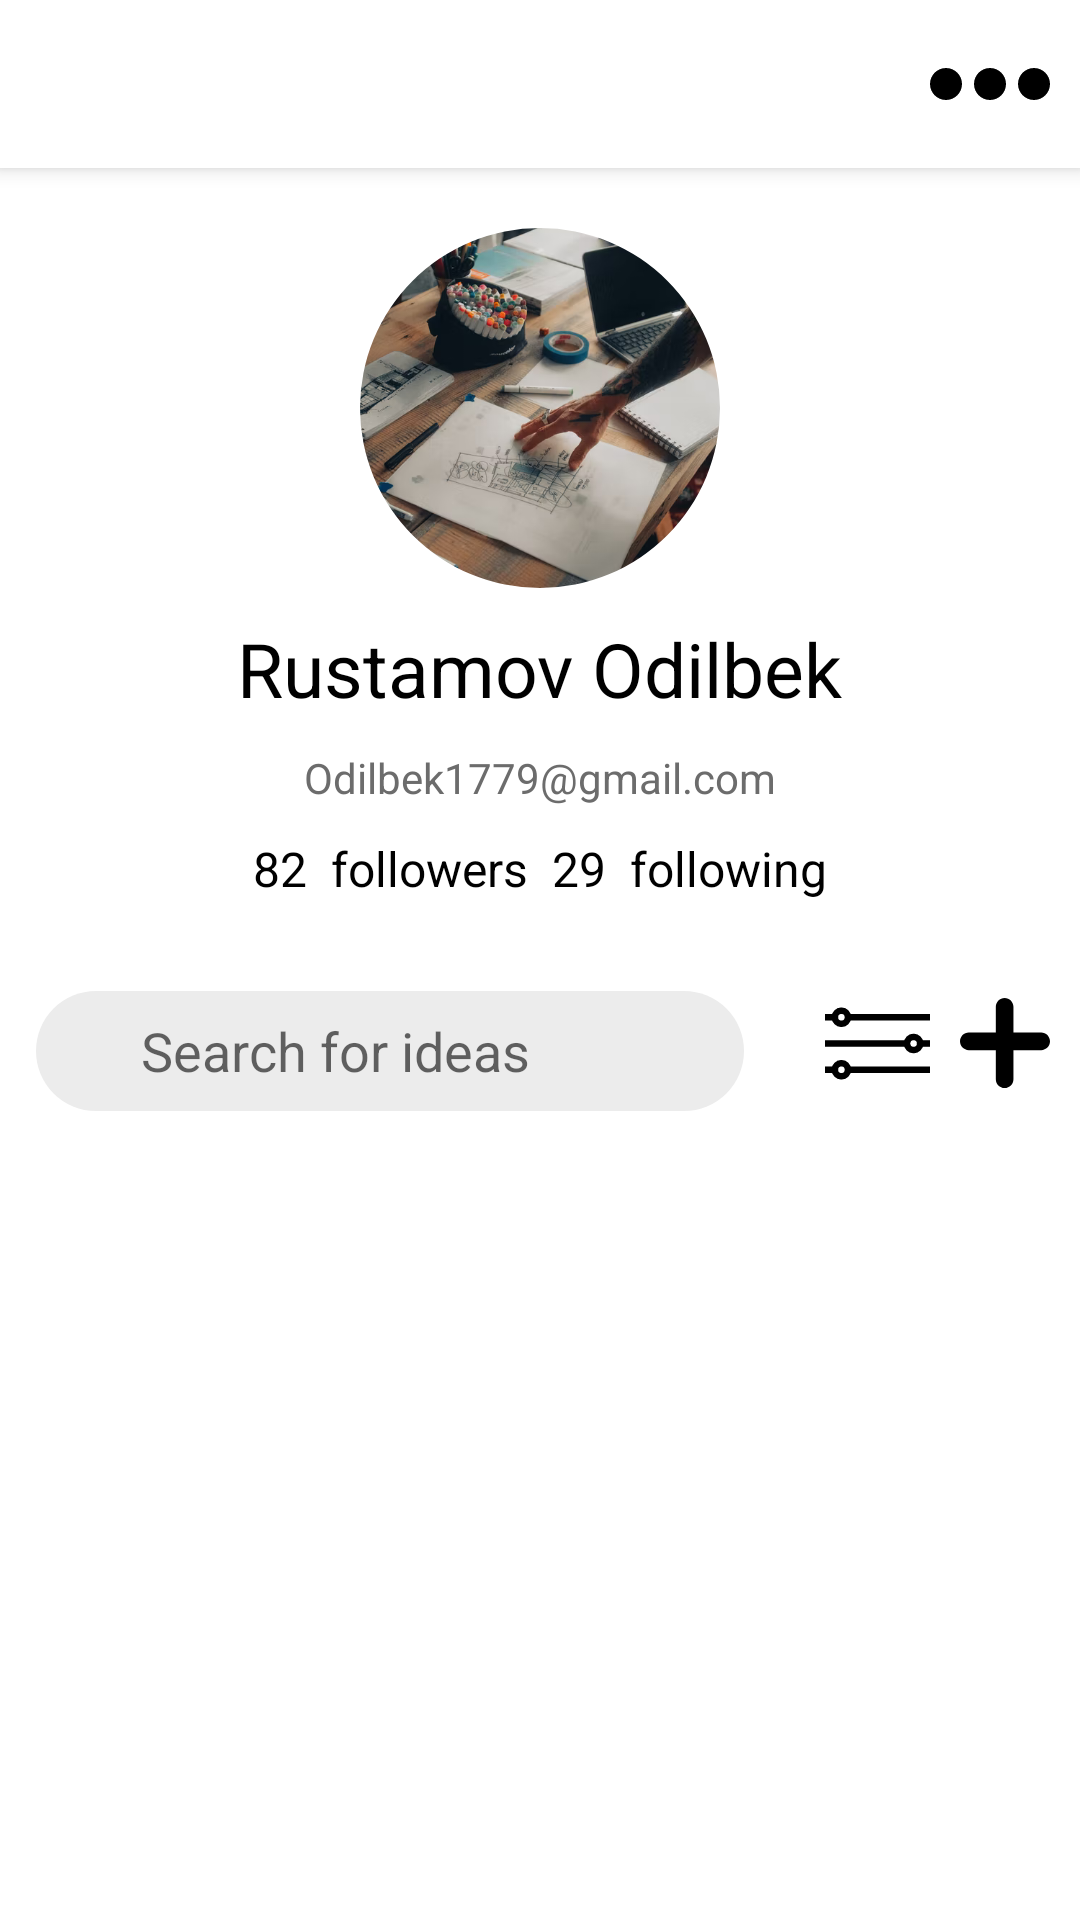

Icons on this 1080 × 1920 Android screen, each with the point to tap as (x=x, y=y):
filter: (x=877, y=1043)
more: (x=990, y=84)
plus: (x=1005, y=1043)
